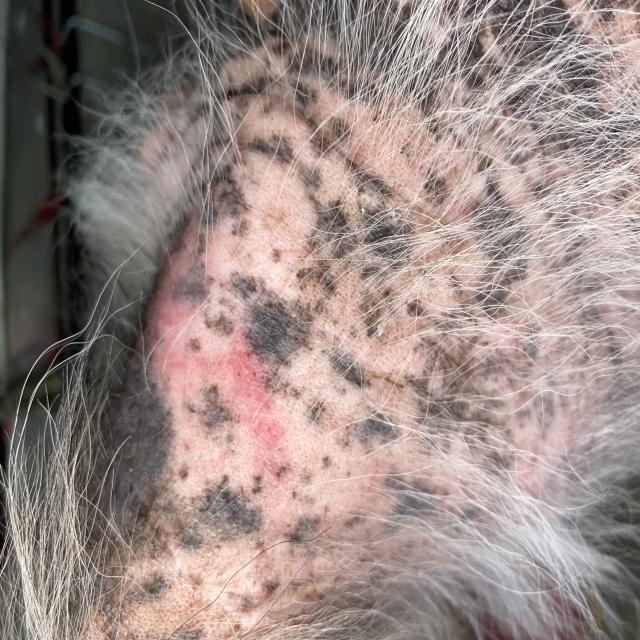demodicosis: (225, 68, 532, 459), (122, 309, 198, 618)
